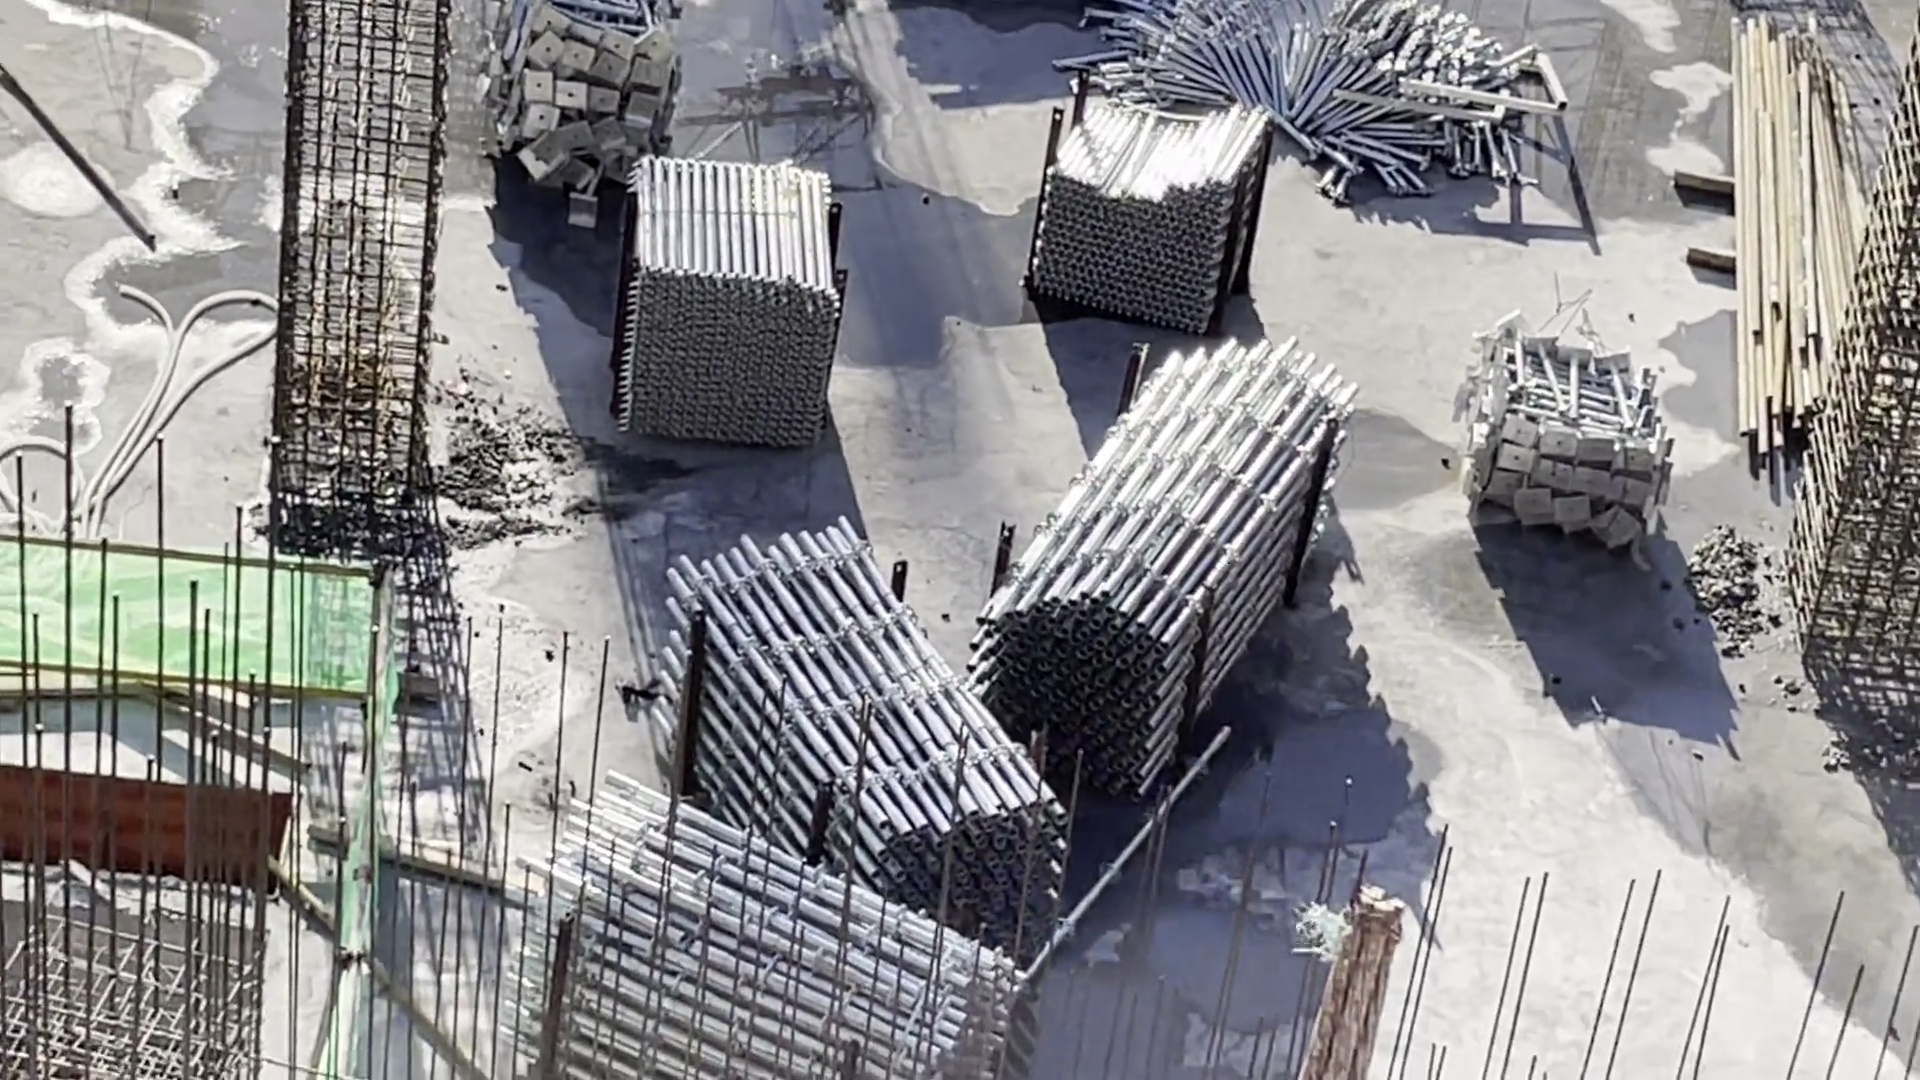scaffold: (644, 526, 1067, 956), (1000, 349, 1342, 778), (525, 794, 967, 1080), (1105, 3, 1524, 208), (615, 183, 845, 448), (483, 1, 715, 211), (1043, 96, 1253, 328), (1469, 311, 1677, 545)
